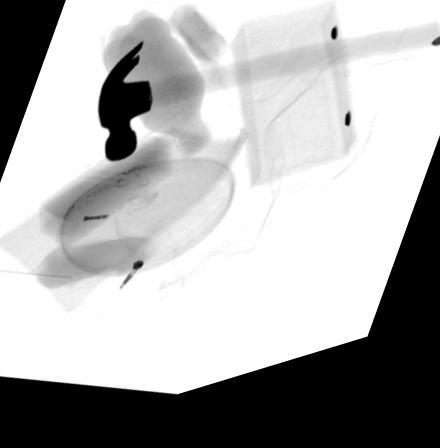Hammer: (97, 47, 440, 170)
